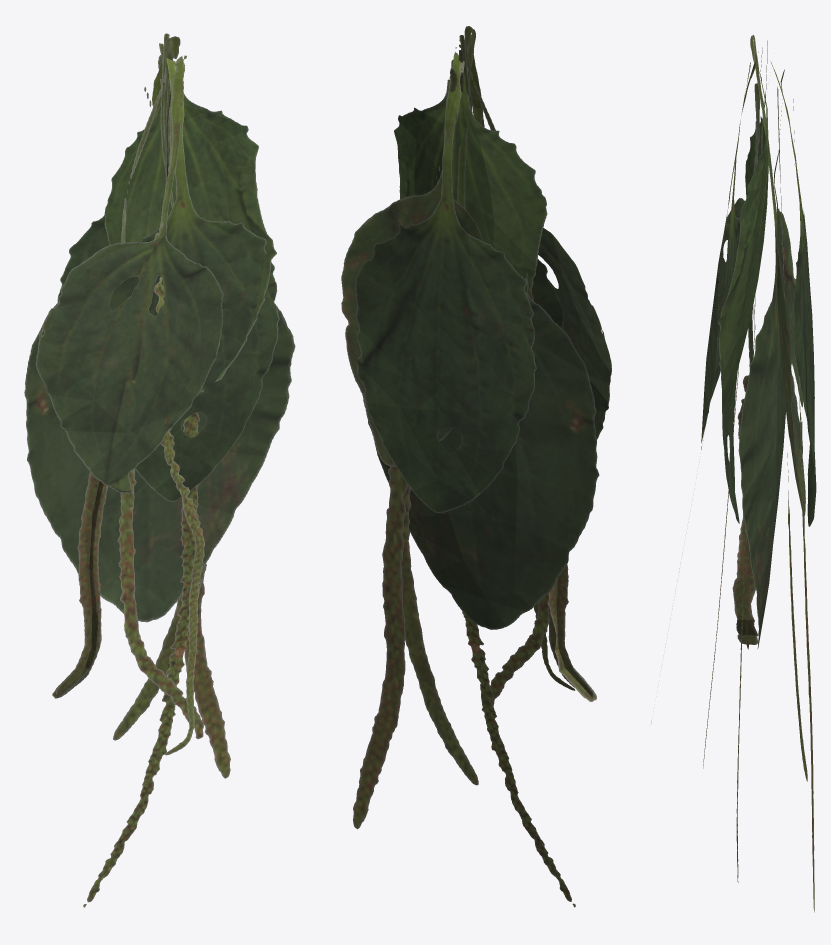
Rendered from MedicalHerb_Combined.fbx.
3 renders of one model, left to right at view 1: azimuth 30°, elevation 25°; view 2: azimuth 150°, elevation 25°; view 3: azimuth 270°, elevation 25°, orthographic. The views are drawn at different scales.
Visible parts, largest first — view 1: MedicalHerb; view 2: MedicalHerb; view 3: MedicalHerb.
Part boxes in pixels (left/top/right/bottom): MedicalHerb: left=24, top=33, right=295, bottom=907; MedicalHerb: left=341, top=26, right=611, bottom=907; MedicalHerb: left=651, top=35, right=816, bottom=912.
Size of the model in its own units: 14.92 by 46.26 by 7.49.
